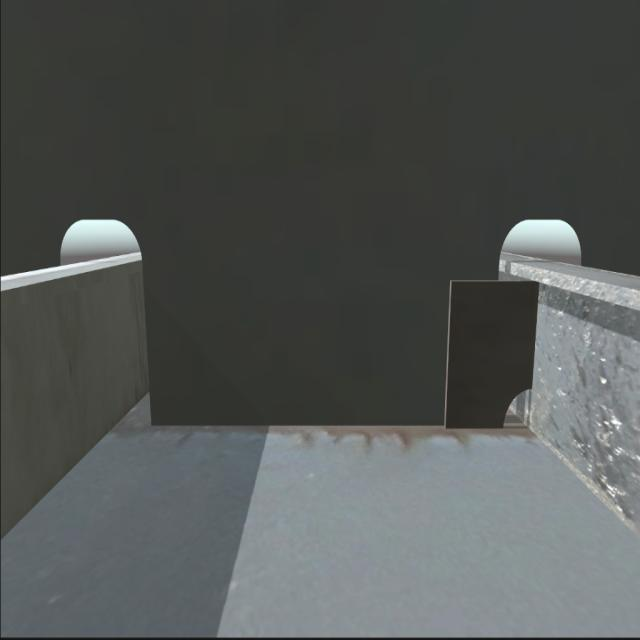fillet_hole: (496, 381, 539, 435)
fillet_yong_jeop_jang: (150, 411, 505, 435)
longi_yong_jeop_jang: (531, 278, 540, 394)
plate_CP01: (450, 279, 534, 433)
